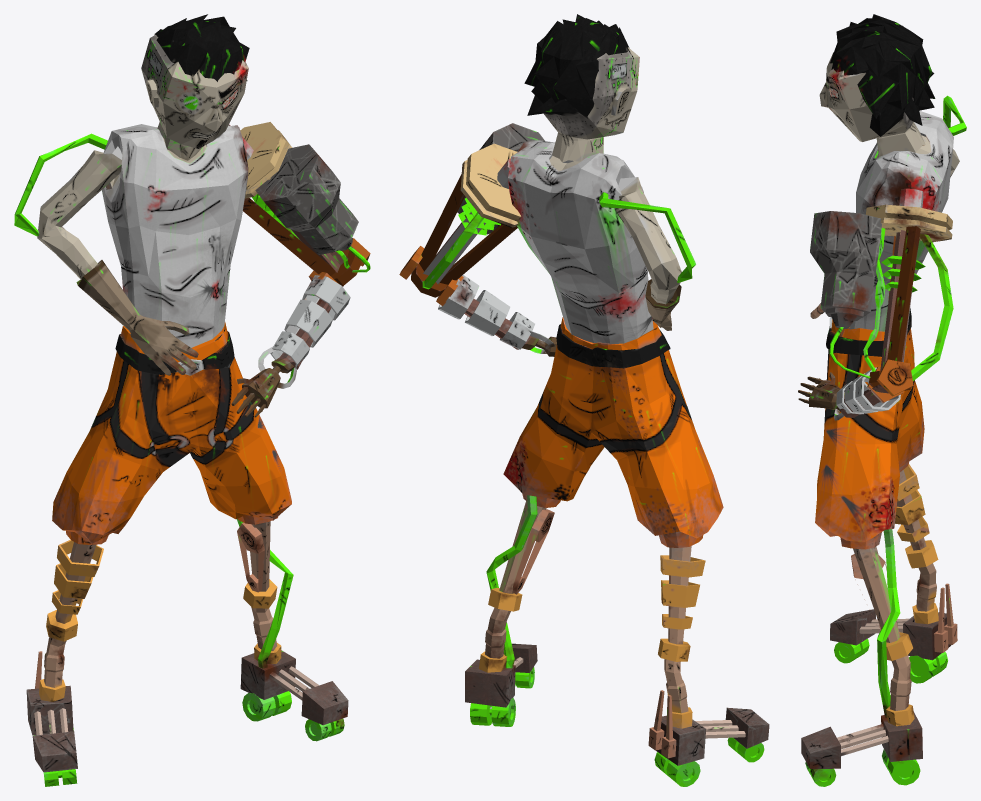
The model's file is CyborgFINALAnimation_000029.obj.
The picture shows the model from 3 angles, left to right: view 1: azimuth 30°, elevation 25°; view 2: azimuth 150°, elevation 25°; view 3: azimuth 270°, elevation 25°; orthographic projection.
Visible parts, largest first — view 1: CyborgMesh_Cube.002; view 2: CyborgMesh_Cube.002; view 3: CyborgMesh_Cube.002.
Part boxes in pixels (left/top/right/bottom): CyborgMesh_Cube.002: left=14, top=14, right=370, bottom=786; CyborgMesh_Cube.002: left=399, top=14, right=769, bottom=786; CyborgMesh_Cube.002: left=798, top=14, right=966, bottom=786.
Bounding box in the file's own units: 4.83 × 9.6 × 2.05.
